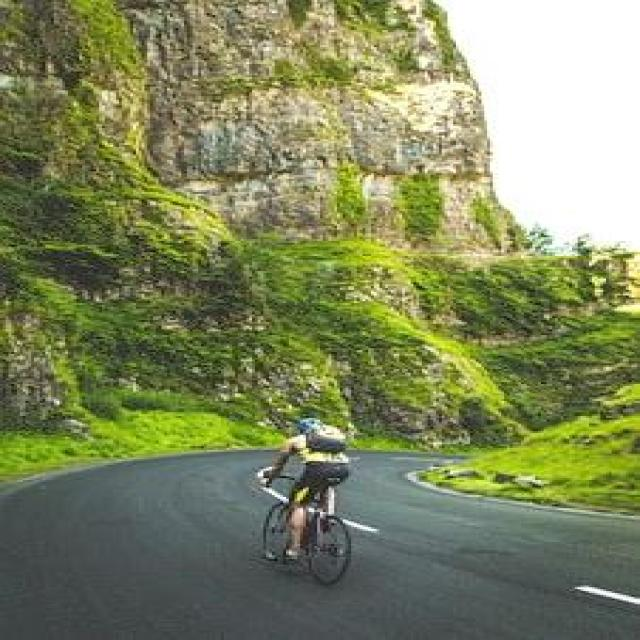bikerider: (244, 405, 371, 587)
